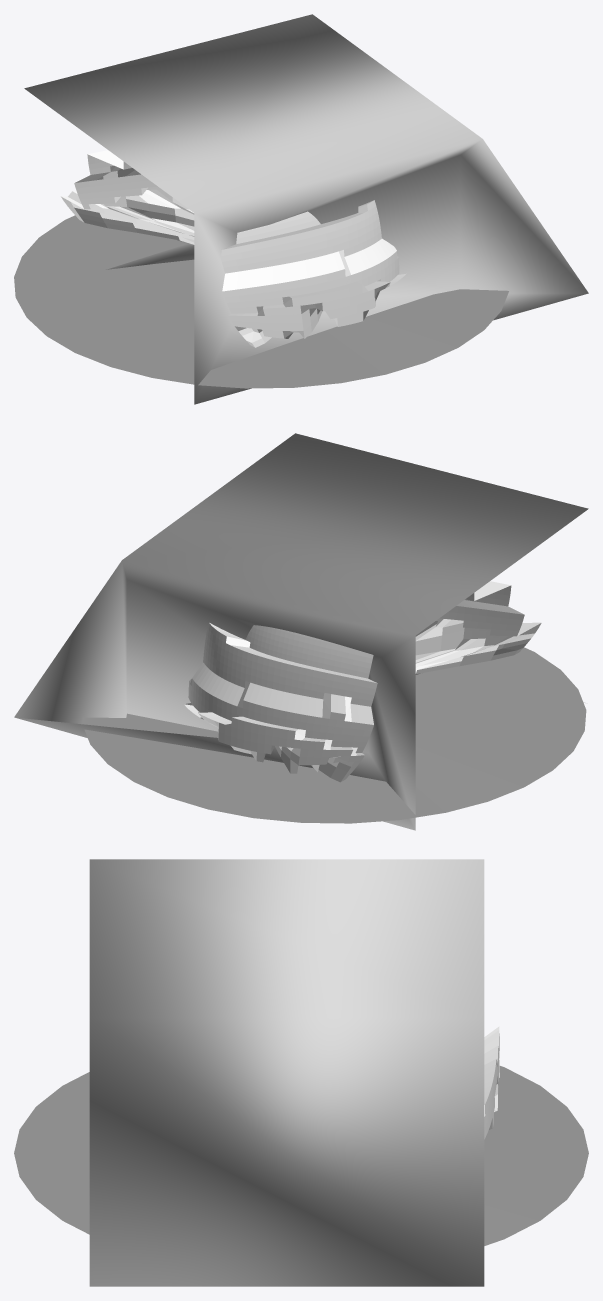
3 renders of one model, top to bottom at view 1: azimuth 30°, elevation 25°; view 2: azimuth 150°, elevation 25°; view 3: azimuth 270°, elevation 25°, orthographic. The views are drawn at different scales.
Parts seen in each view (by area): view 1: Cube, Plateforme.001, Cube.001; view 2: Cube, Plateforme.001, Cube.001; view 3: Cube, Plateforme.001, Cube.001.
Boxes of the visible parts, x1,y1,x2,y2 form: Cube: (24, 14, 588, 404); Plateforme.001: (14, 215, 508, 388); Cube.001: (61, 150, 406, 347); Cube: (14, 433, 588, 830); Plateforme.001: (82, 647, 586, 823); Cube.001: (184, 581, 541, 782); Cube: (89, 859, 484, 1286); Plateforme.001: (14, 1066, 588, 1245); Cube.001: (484, 1026, 499, 1139).
Bounding box in the file's own units: 252 × 112 × 240.
2 materials, 1 textured.
